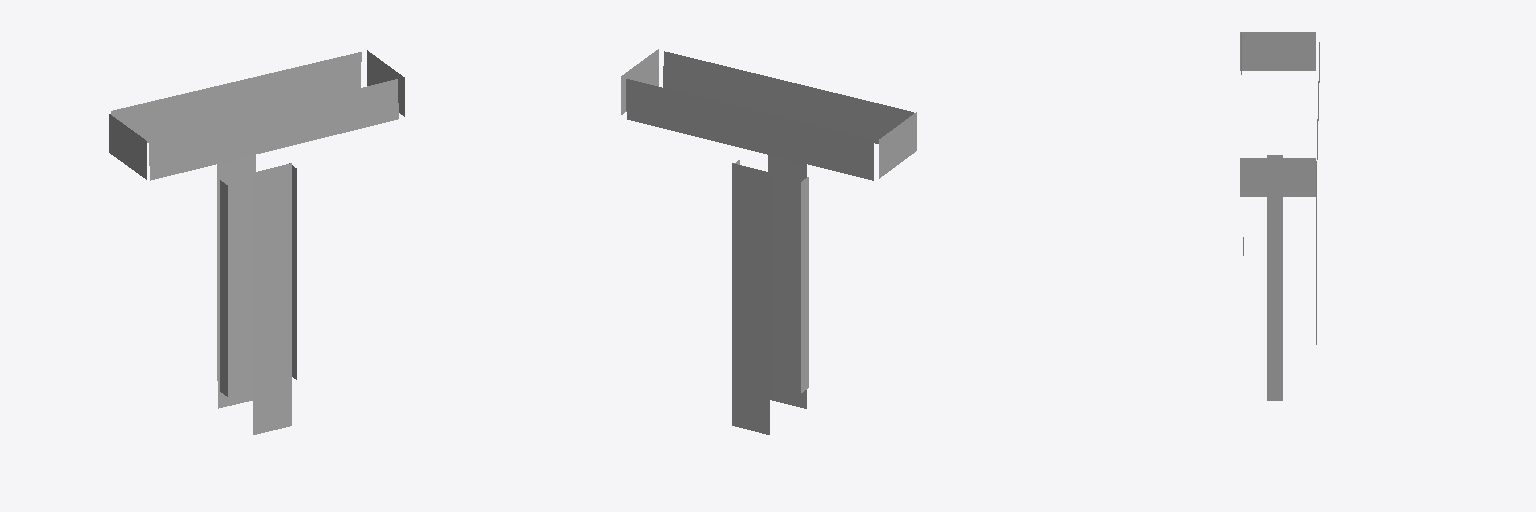
File: ventanas.obj
3 views of the same model, side by side, from view 1: azimuth 30°, elevation 25°; view 2: azimuth 150°, elevation 25°; view 3: azimuth 270°, elevation 25° (orthographic).
Parts seen in each view (by area): view 1: polySurface49; view 2: polySurface49; view 3: polySurface49.
Boxes of the visible parts, x1=… form: polySurface49: x1=109, y1=50, x2=404, y2=434; polySurface49: x1=621, y1=49, x2=916, y2=434; polySurface49: x1=1240, y1=32, x2=1319, y2=400.
Size of the model in its own units: 93.27 by 111 by 24.83.